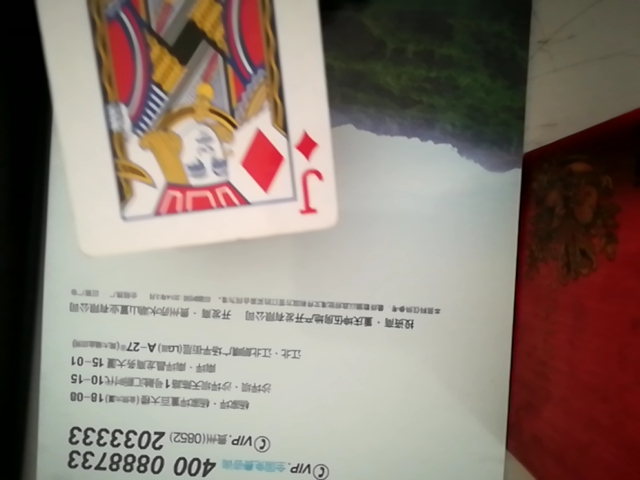fk j: (38, 0, 341, 252)
